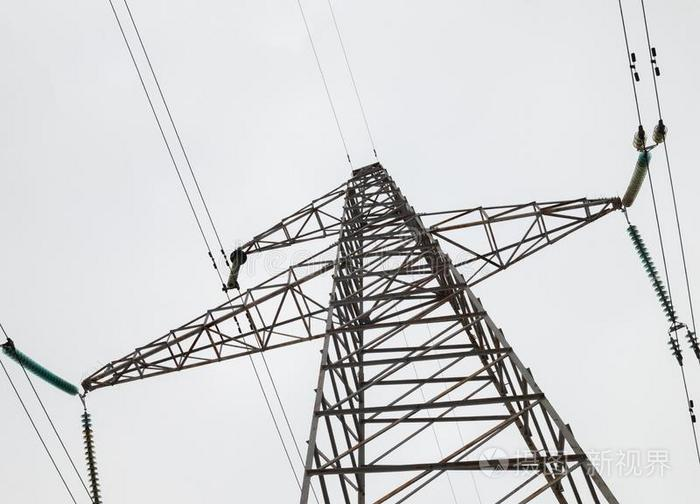insulator: (628, 227, 677, 322), (1, 343, 81, 399), (81, 412, 106, 504), (623, 148, 652, 208)
